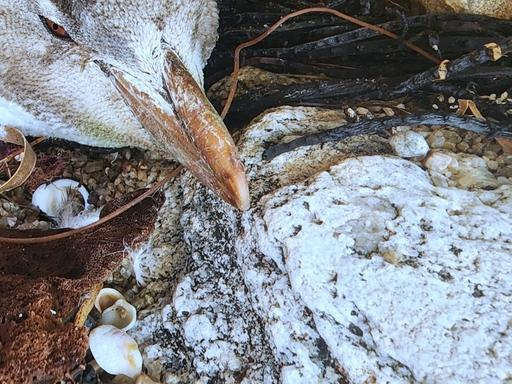Southern Rockhopper Penguin: (0, 0, 276, 227)
